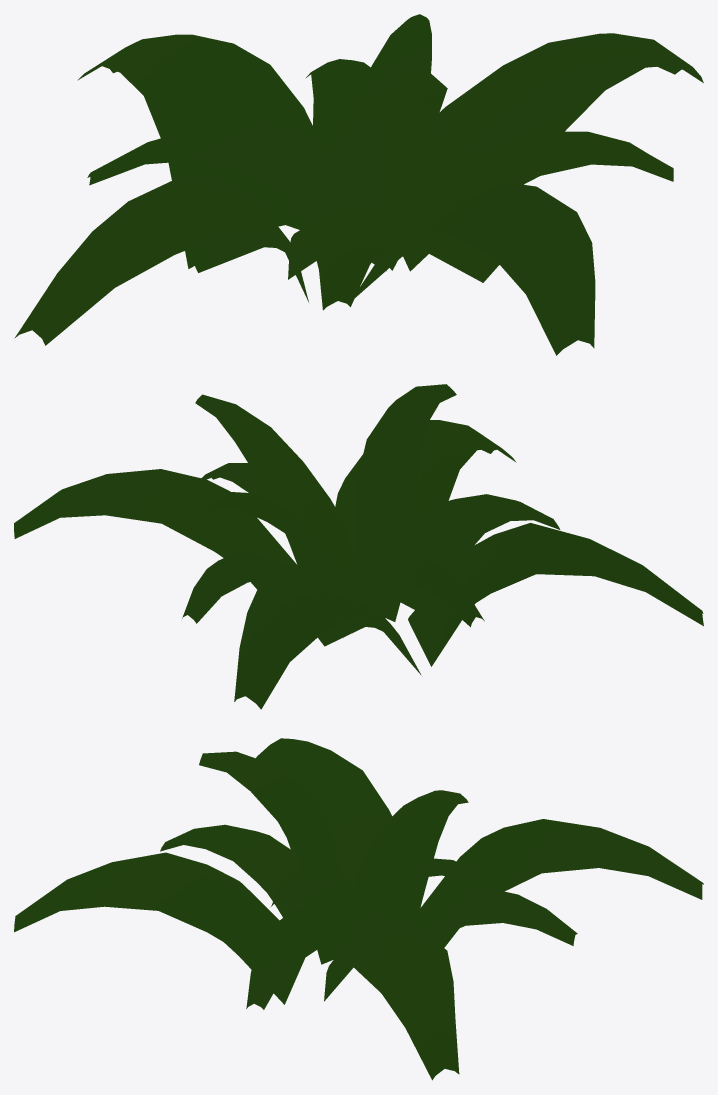
Rendered from S_Fern_Bush2.fbx.
3 renders of one model, top to bottom at view 1: azimuth 30°, elevation 25°; view 2: azimuth 150°, elevation 25°; view 3: azimuth 270°, elevation 25°, orthographic. The views are drawn at different scales.
Visible parts, largest first — view 1: S_Fern-Bush_01; view 2: S_Fern-Bush_01; view 3: S_Fern-Bush_01.
Part boxes in pixels (x1,y1,x2,y2): S_Fern-Bush_01: (14, 14, 703, 355); S_Fern-Bush_01: (14, 384, 703, 709); S_Fern-Bush_01: (14, 738, 703, 1080).
Size of the model in its own units: 128 by 39.47 by 115.
